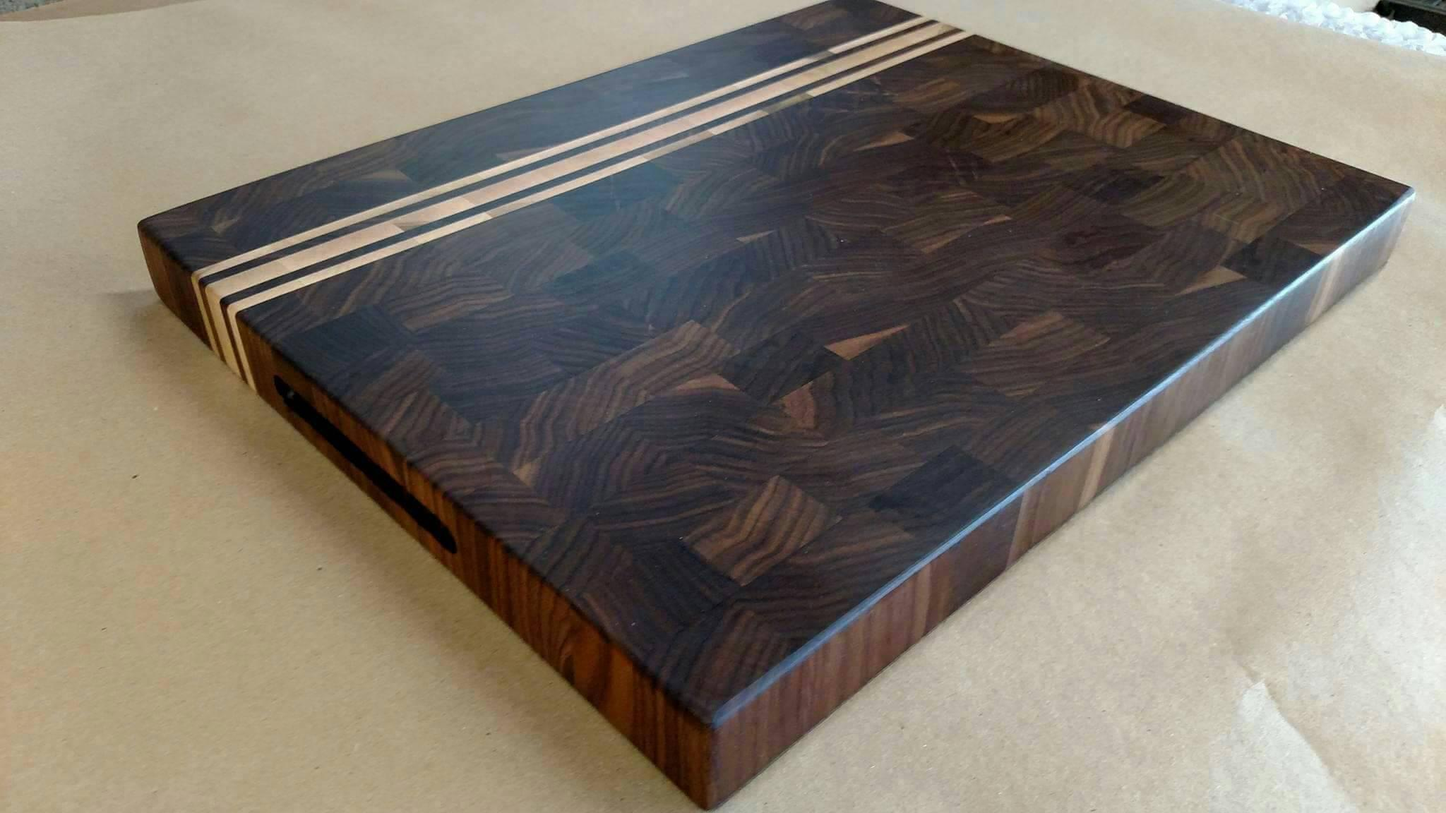gloved_hand: (124, 0, 1418, 813)
